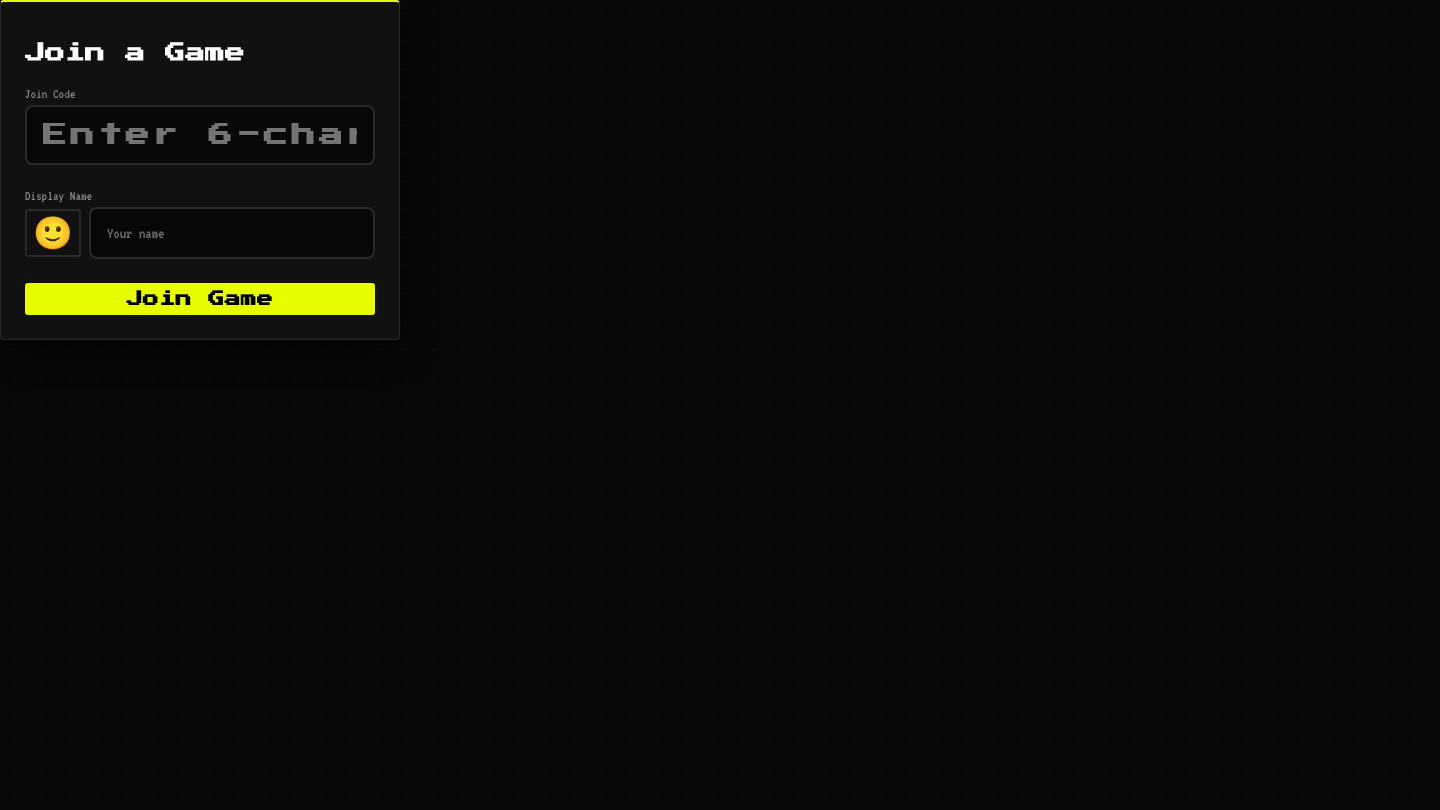
Test: JoinForm › shows error on API failure
This screenshot has width=1440, height=810.
Type "XXXXXX" into the field with placeholder "Enter 6-character code".
click(200, 135); type("XXXXXX")  # box [25,105,375,165]
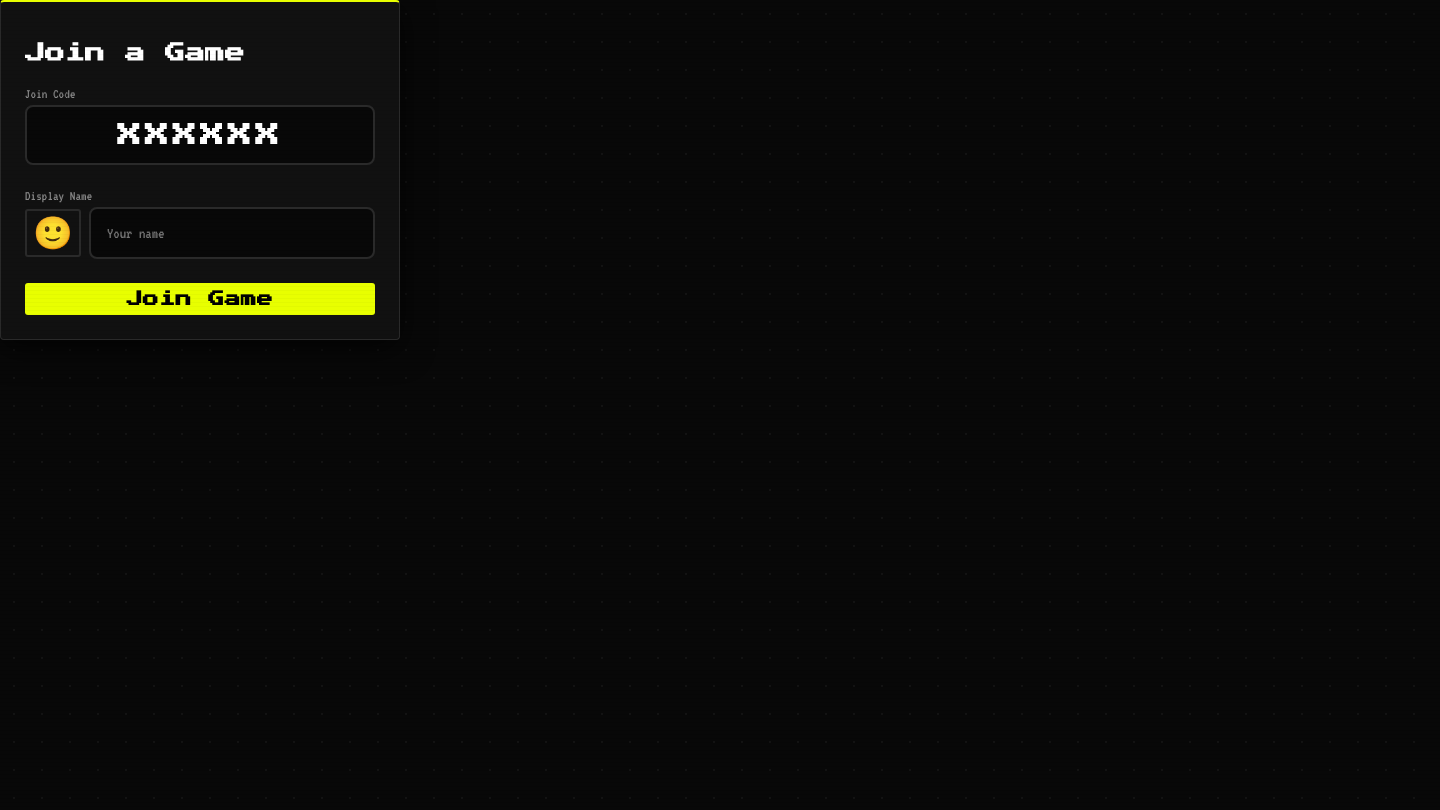
Type "Alice" into the field with placeholder "Your name".
click(232, 233); type("Alice")  # box [89,207,375,259]
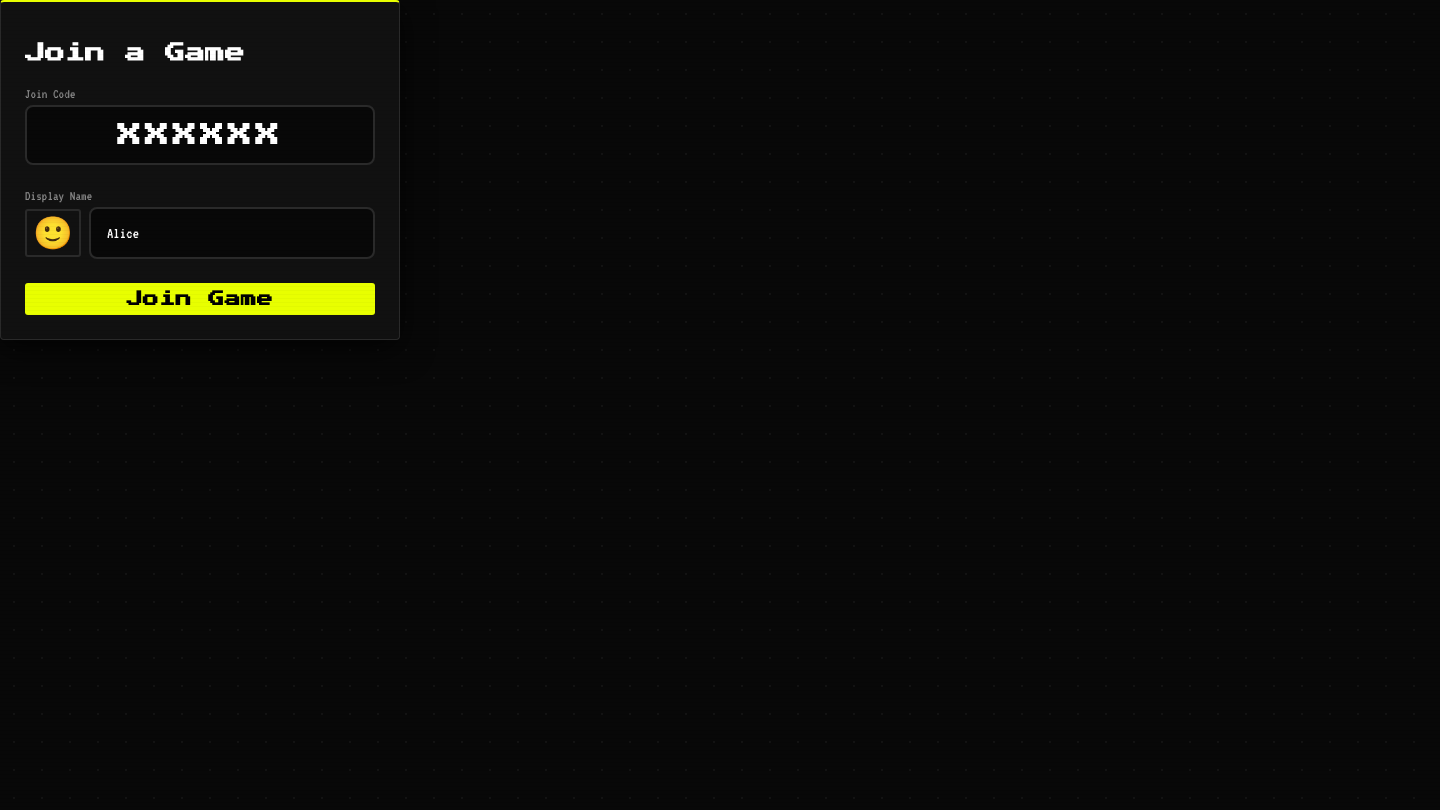
Click the button "Join Game".
click(200, 299)  # box [25,283,375,315]
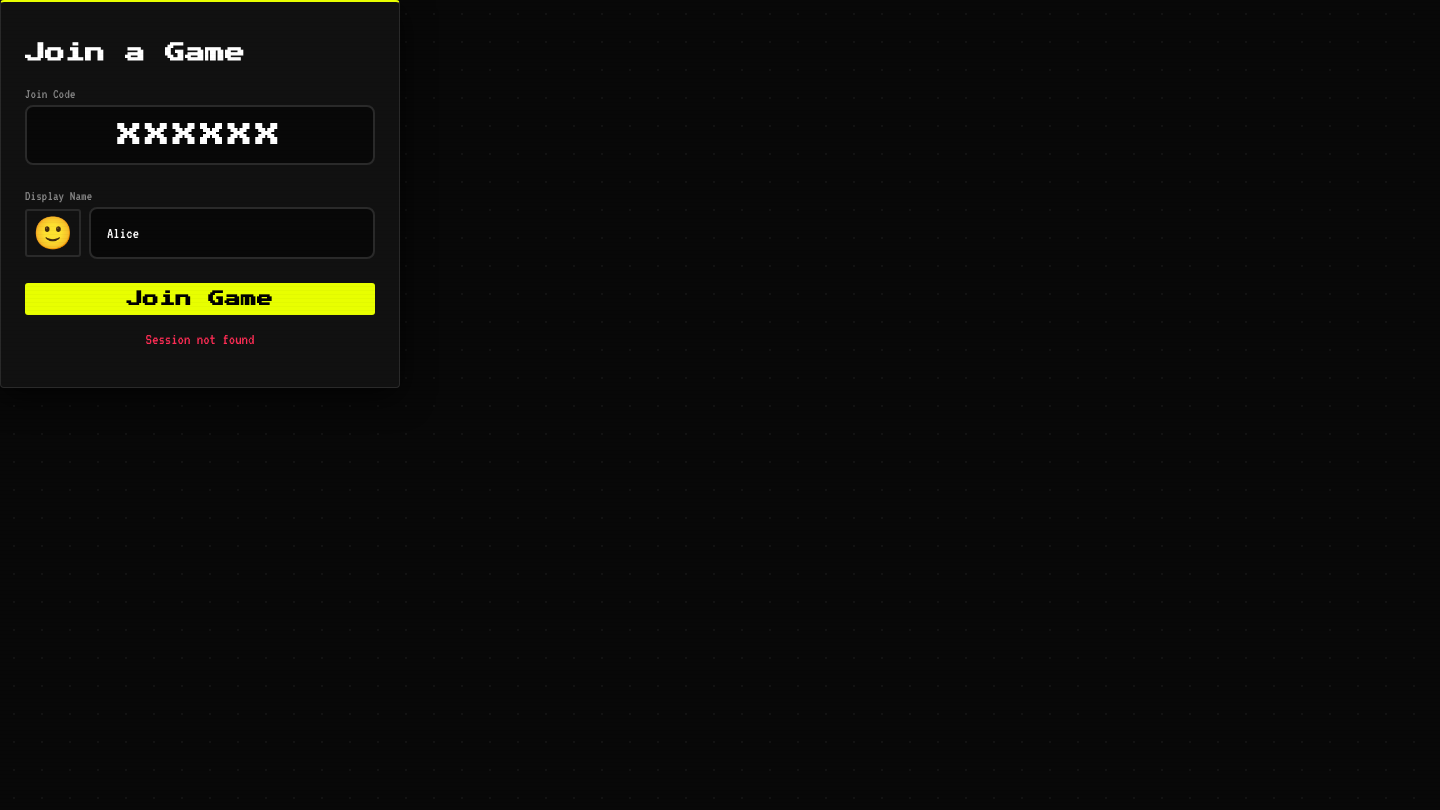
Now the text "Session not found" is shown, box [146,331,254,347]
